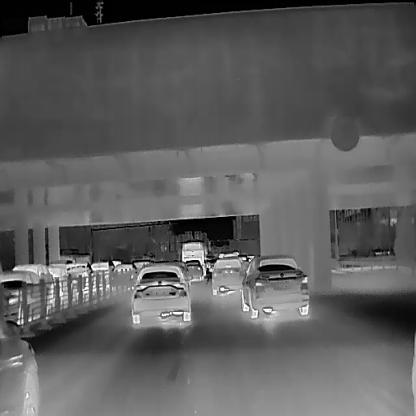bus: (180, 239, 207, 275), (48, 264, 69, 293), (58, 248, 90, 264)
car: (238, 254, 309, 317), (0, 312, 38, 415), (129, 264, 193, 323), (0, 269, 51, 320), (10, 263, 58, 298), (208, 256, 246, 295), (65, 262, 92, 291), (89, 260, 114, 288), (112, 261, 136, 284), (182, 258, 202, 282)
